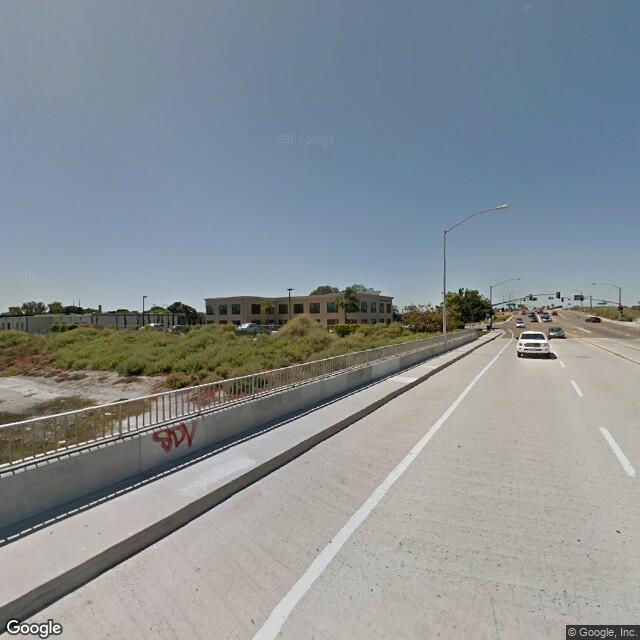litter: (105, 410, 112, 416), (24, 426, 31, 431)
